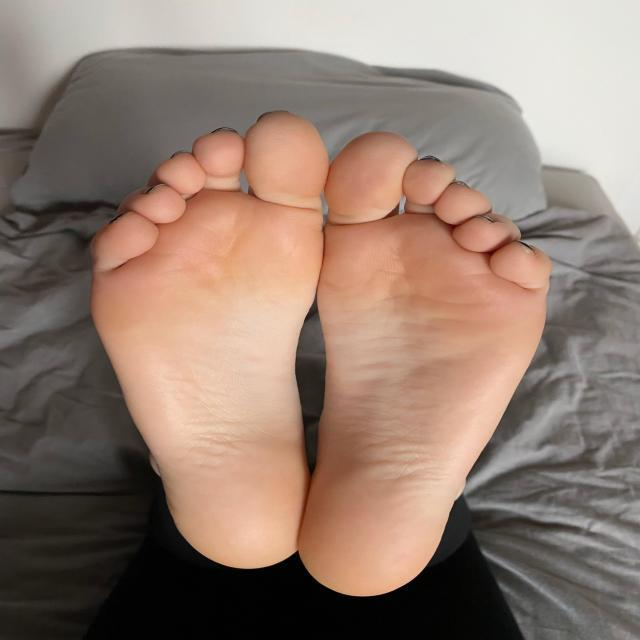Barefoots: (283, 124, 583, 600), (60, 103, 332, 590)
